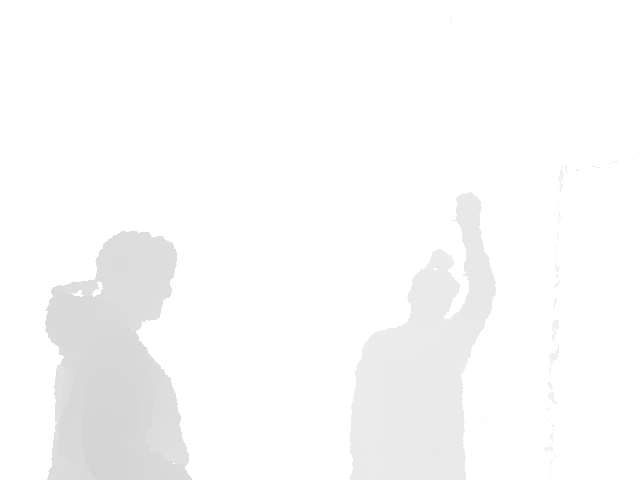hand: (453, 192, 482, 234)
head: (97, 231, 175, 326), (405, 264, 460, 333)
person: (348, 191, 496, 480), (43, 229, 194, 480)
